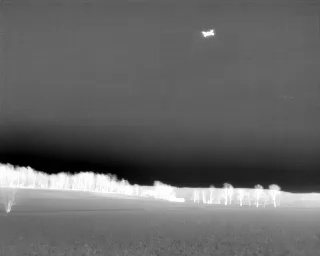DRONE: (198, 24, 220, 43)
